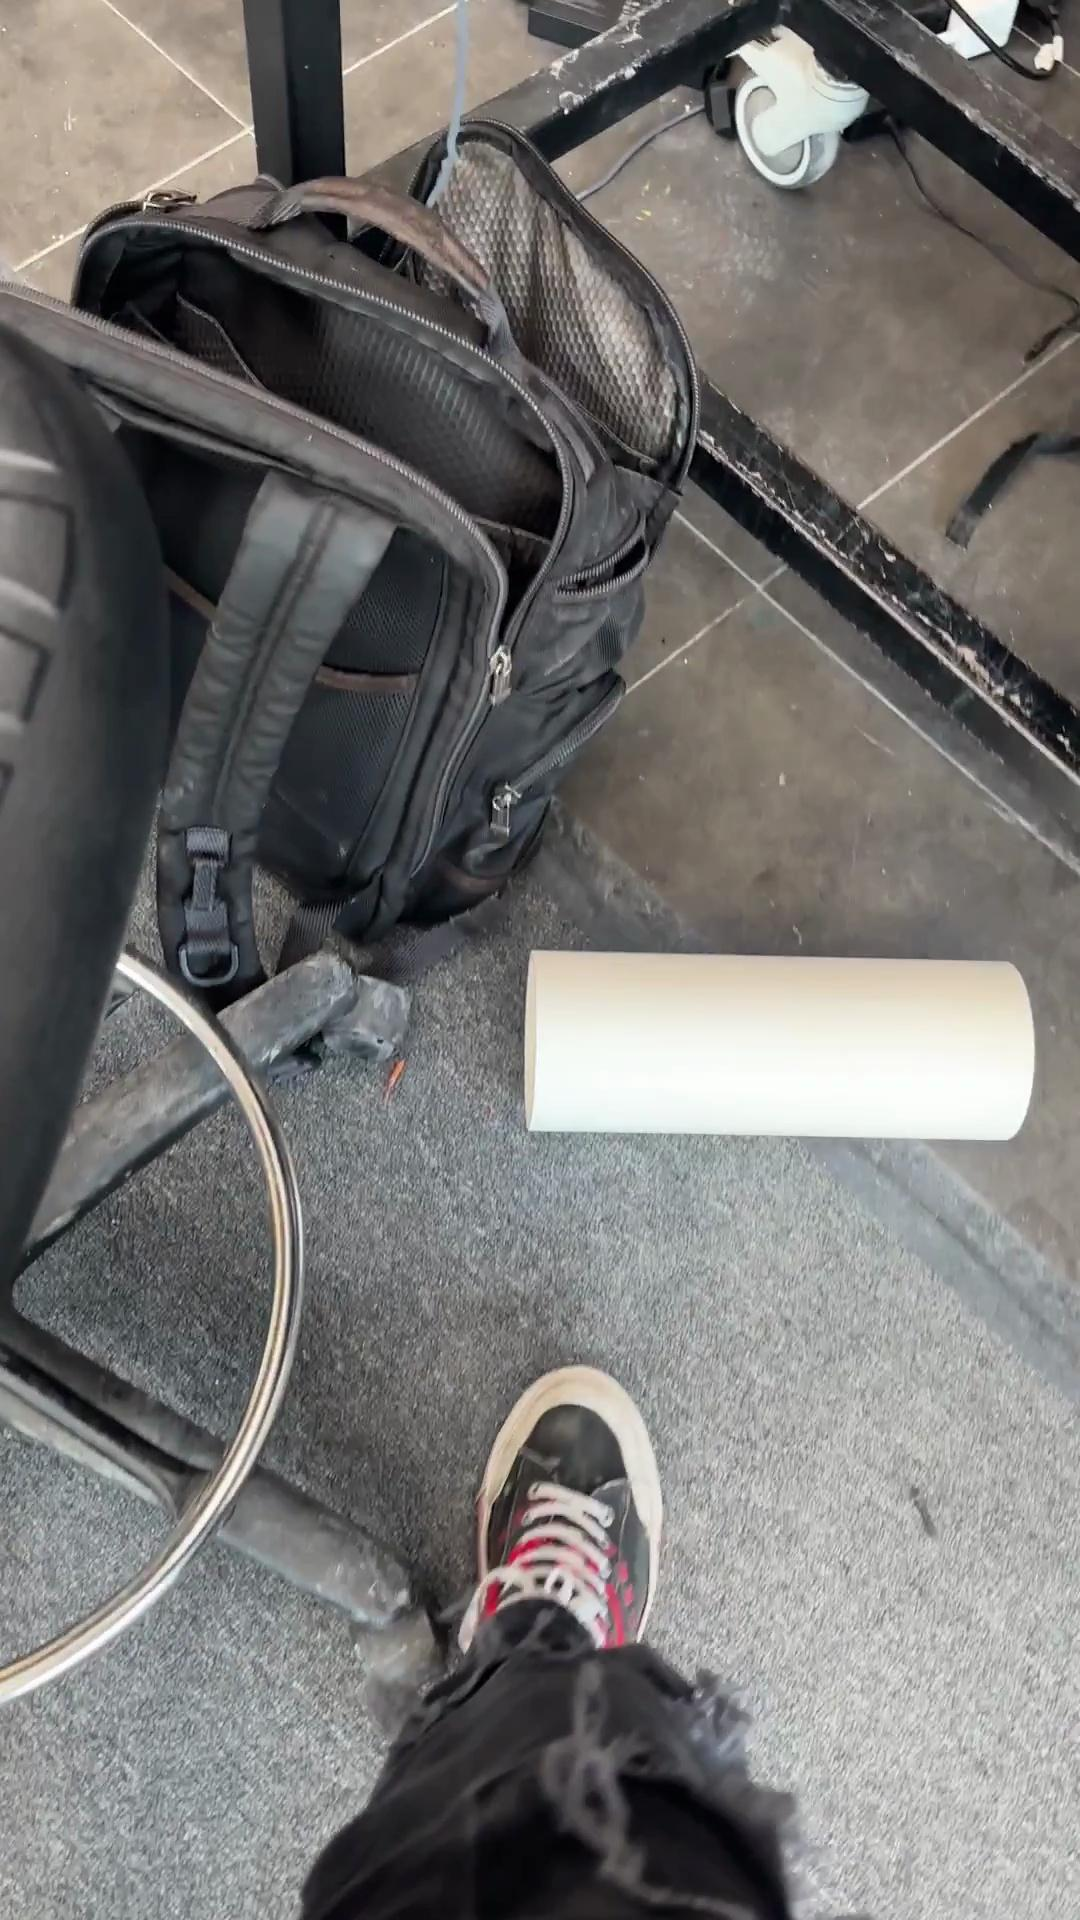CORAL: (520, 945, 1036, 1143)
